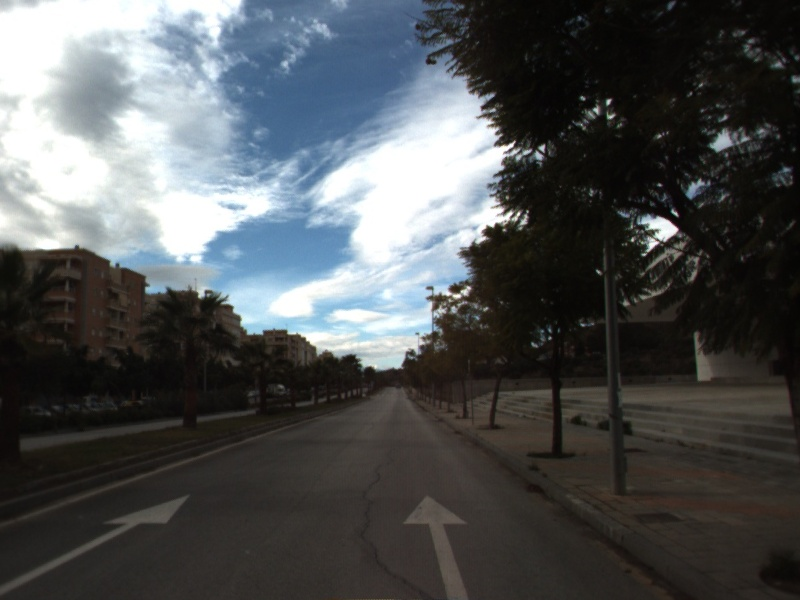STRAIGHT: (1, 494, 196, 600), (401, 493, 471, 600)
